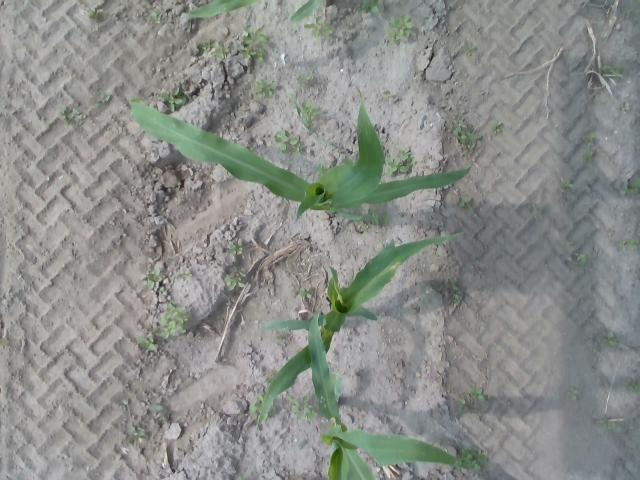Maize: (130, 86, 473, 222), (258, 233, 462, 428), (308, 310, 471, 480), (185, 0, 258, 17), (290, 0, 322, 24)
Weeds: (158, 301, 190, 338), (448, 118, 482, 150), (240, 26, 268, 64), (286, 393, 320, 422), (293, 100, 324, 131), (386, 12, 414, 44), (304, 15, 332, 45), (386, 146, 414, 176), (458, 448, 488, 474), (362, 206, 392, 232), (134, 322, 160, 351), (273, 129, 303, 154), (60, 104, 88, 126), (162, 87, 186, 112), (126, 424, 151, 448), (142, 267, 168, 290), (254, 76, 276, 101), (445, 280, 464, 308), (88, 82, 111, 104), (357, 0, 384, 18), (601, 64, 627, 81), (622, 176, 640, 200), (148, 404, 172, 422), (225, 270, 248, 288), (225, 241, 248, 258), (617, 237, 640, 253), (210, 40, 230, 58), (528, 204, 548, 222), (454, 196, 474, 212), (250, 394, 263, 418), (460, 40, 478, 57), (600, 331, 618, 348), (468, 386, 488, 401), (298, 284, 316, 300), (456, 397, 474, 412), (179, 266, 194, 284), (86, 7, 104, 20), (566, 387, 582, 401), (558, 179, 576, 190), (581, 150, 595, 164), (295, 74, 314, 84), (626, 378, 640, 391), (575, 251, 587, 265), (494, 120, 504, 136), (586, 132, 596, 148), (150, 12, 163, 24), (626, 6, 636, 20), (0, 336, 11, 348), (604, 422, 618, 431), (201, 40, 212, 51), (618, 102, 628, 114), (604, 228, 614, 239), (122, 398, 134, 407), (276, 333, 288, 341), (239, 473, 251, 480), (266, 377, 274, 384), (384, 90, 392, 96), (568, 241, 574, 248)
